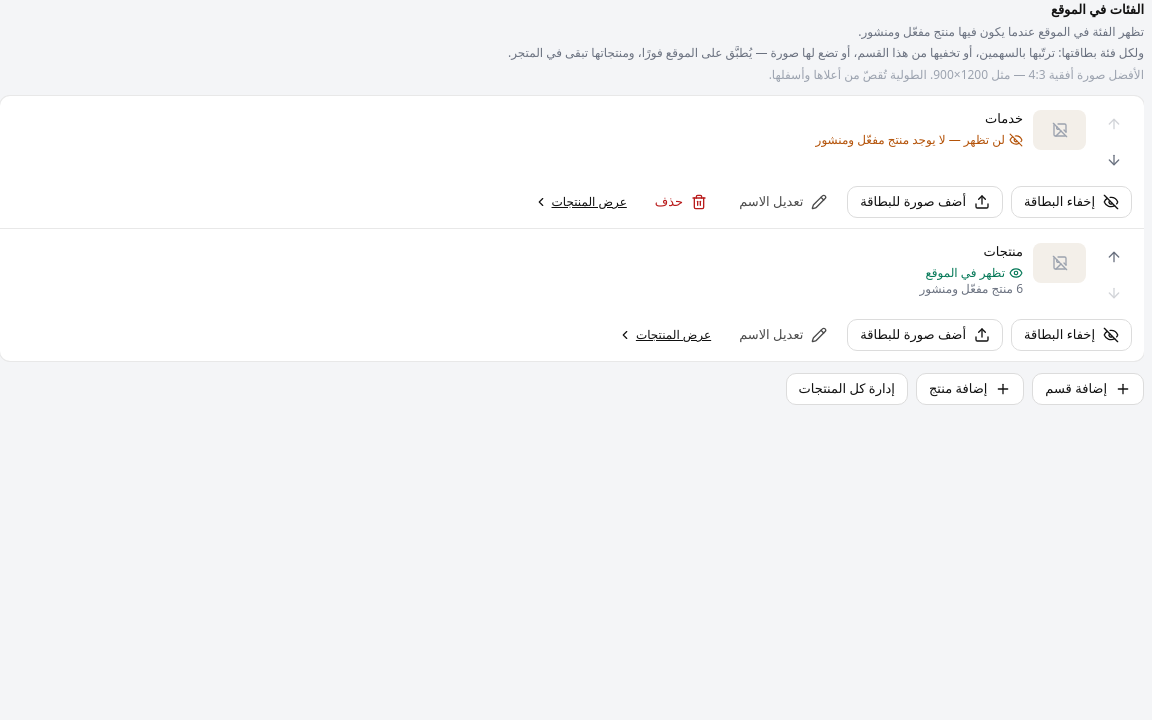
Test case: اسمُ الفئة وحذفُها من المحرّر › والفارغةُ وحدها لها زرُّ حذف — بتأكيدٍ من نافذة النظام، ثمّ تغيب
The width and height of the screenshot is (1152, 720).
Click the button with aria-label "حذف الفئة — خدمات": (681, 202) 643,186 -> 719,218
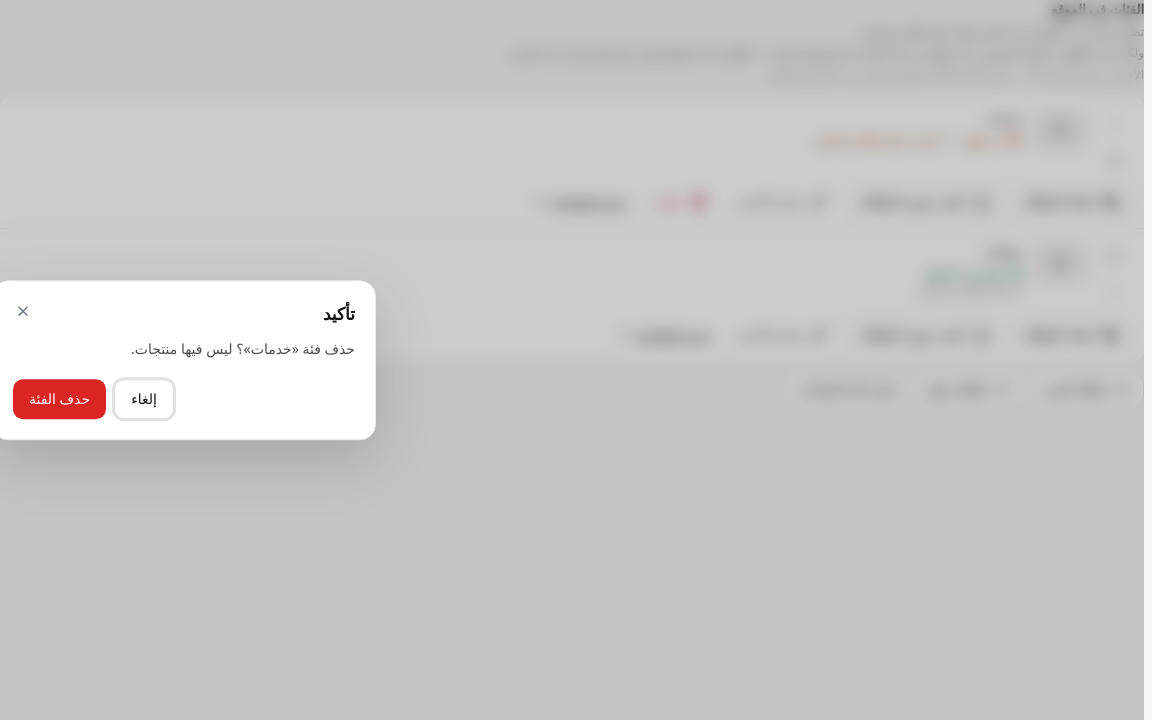
Click the button "حذف الفئة": (60, 399) 13,379 -> 106,419
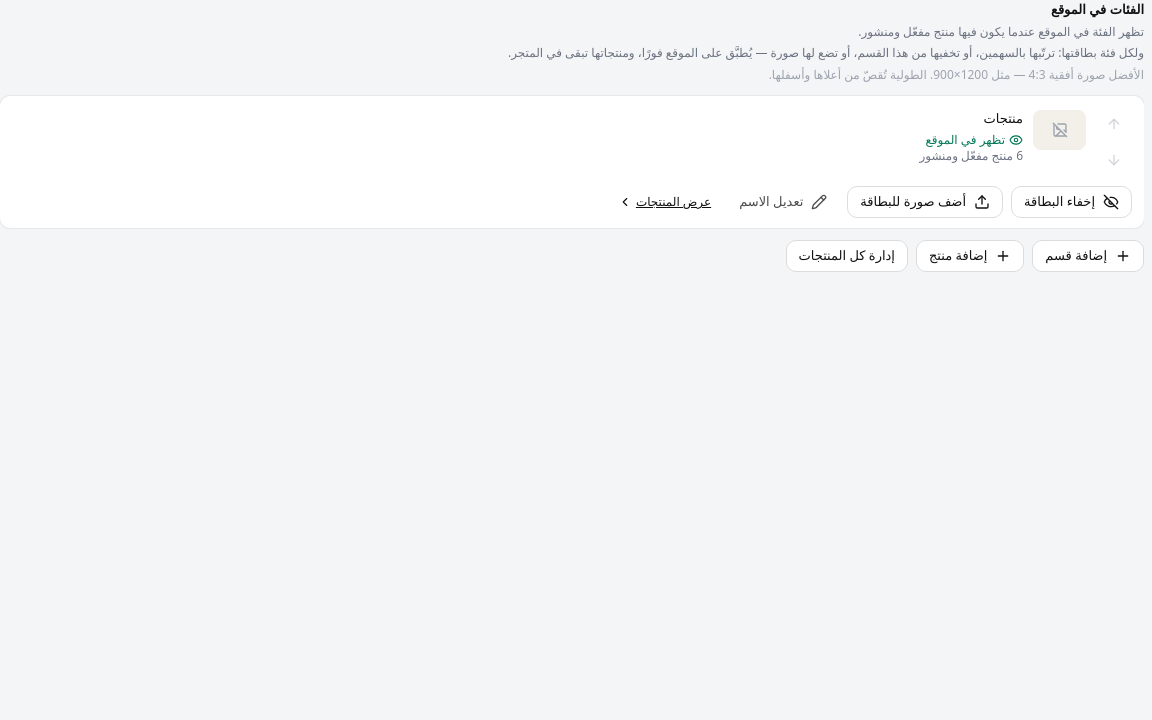
Expected: the list item with test id "catalog-category-2" is gone
